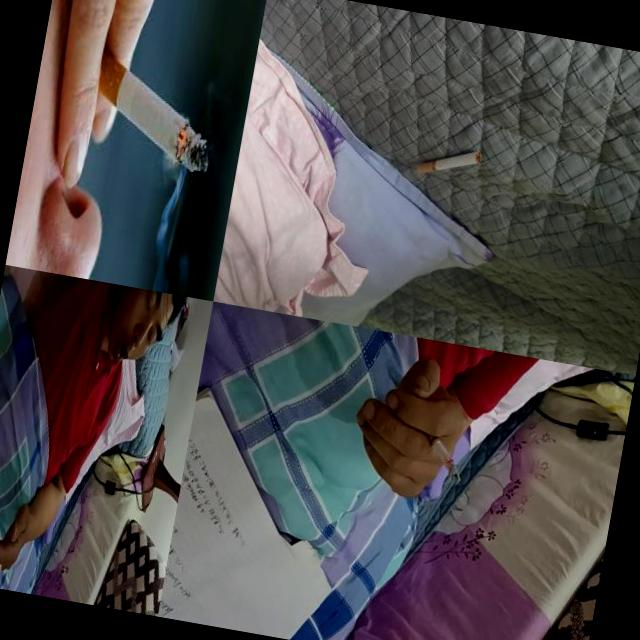cigarette: (60, 34, 226, 175), (414, 140, 482, 184), (418, 428, 468, 484), (0, 554, 5, 588)
